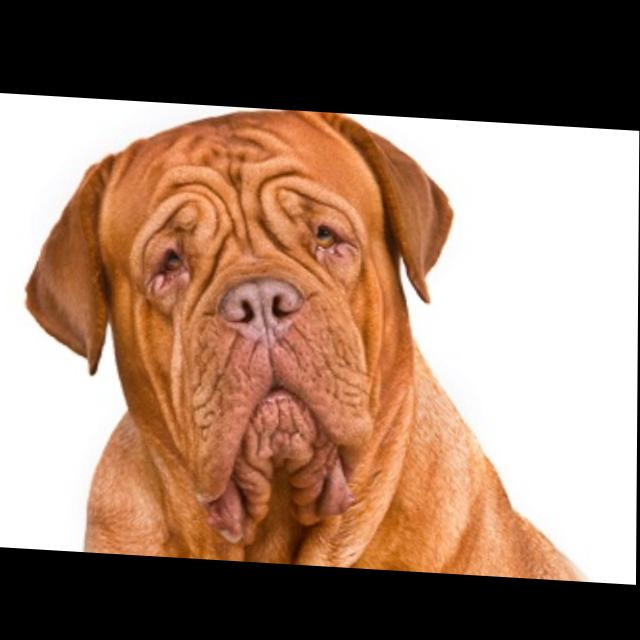dogue_de_bordeaux: (23, 95, 613, 577)
